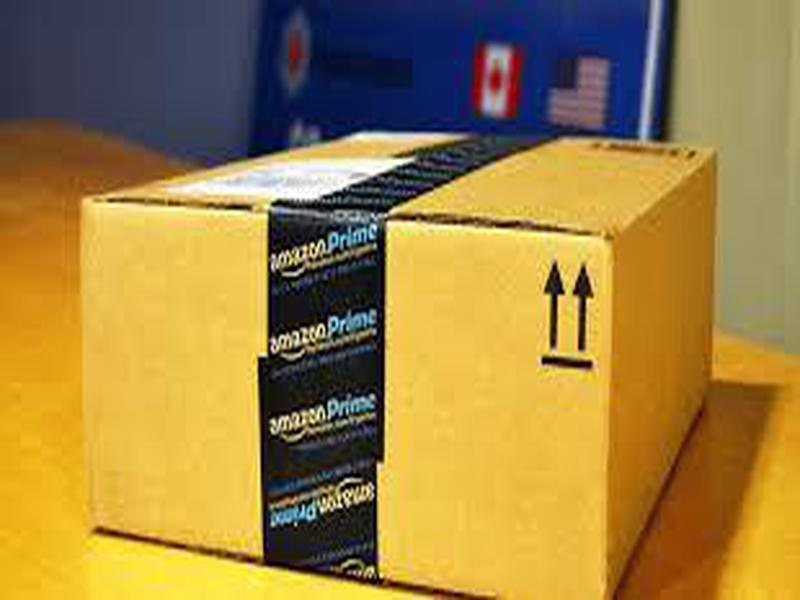package: (62, 95, 725, 582)
